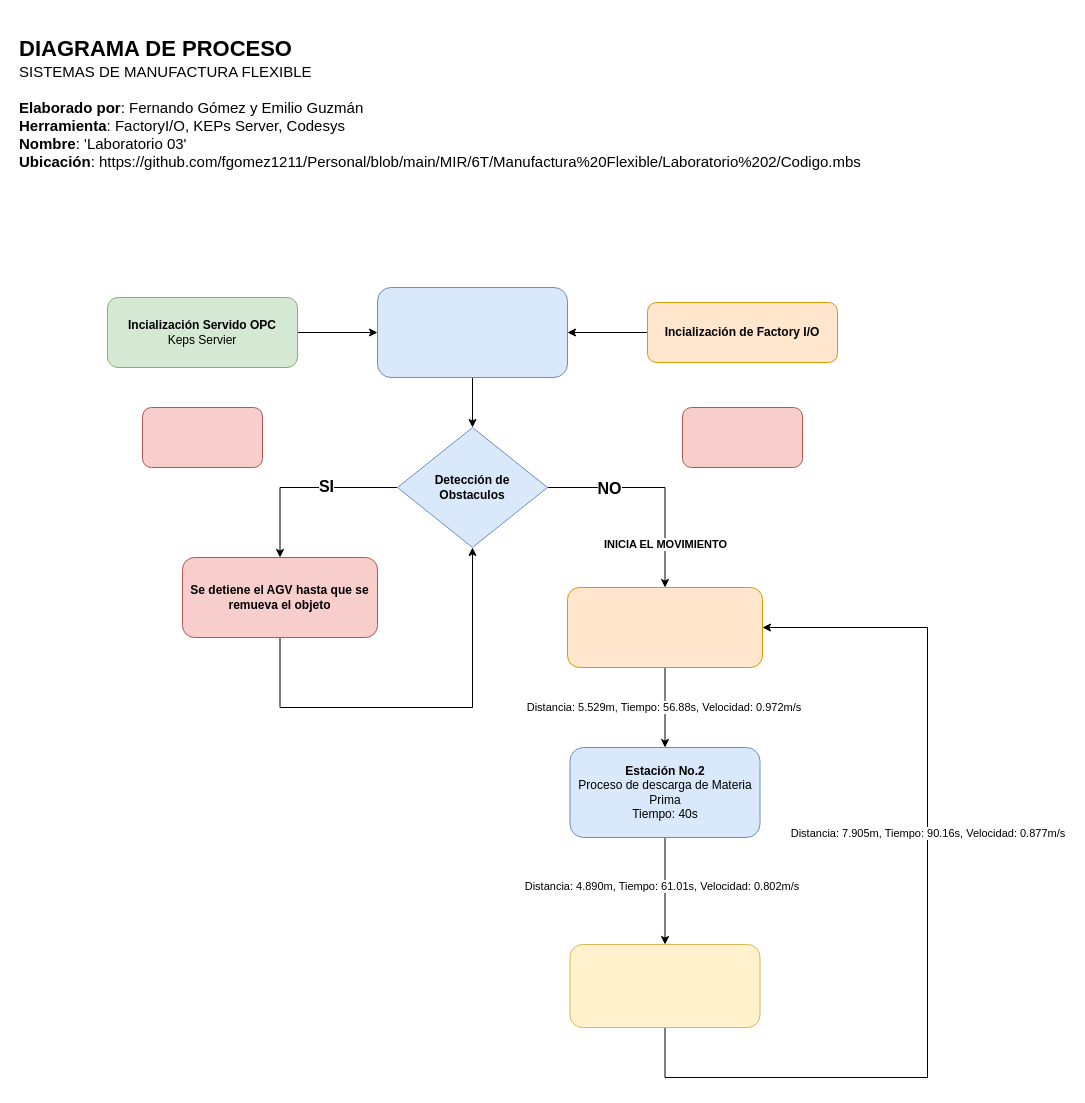
Image size: 1085x1103. Some labels were removed from this diagram. The shapes that lost their labels are listed below. From the top down, each one's box as (x1, y1, x2, y2) in pixels, then its label:
(376, 286, 568, 378): Ejecución de la Simulación
(566, 586, 762, 668): Estación No.1 Proceso de carga de Materia Prima Tiempo: 45s
(569, 944, 760, 1028): Estación No.3 Proceso de descarga final de Materia Prima Tiempo: 30s
